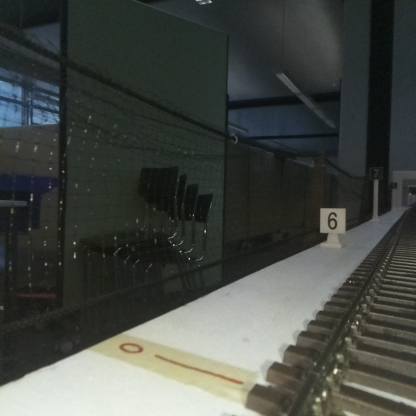white-stop-6: (320, 207, 345, 246)
